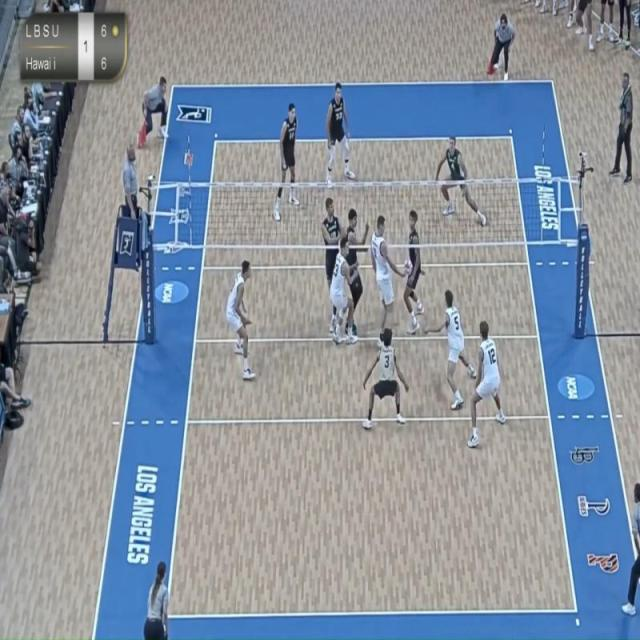volleyball: (401, 252, 415, 279)
